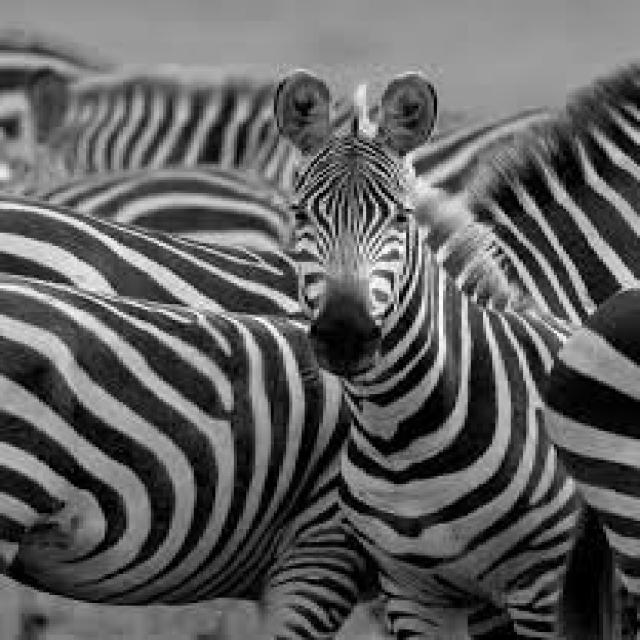zebra: (3, 45, 640, 637)
